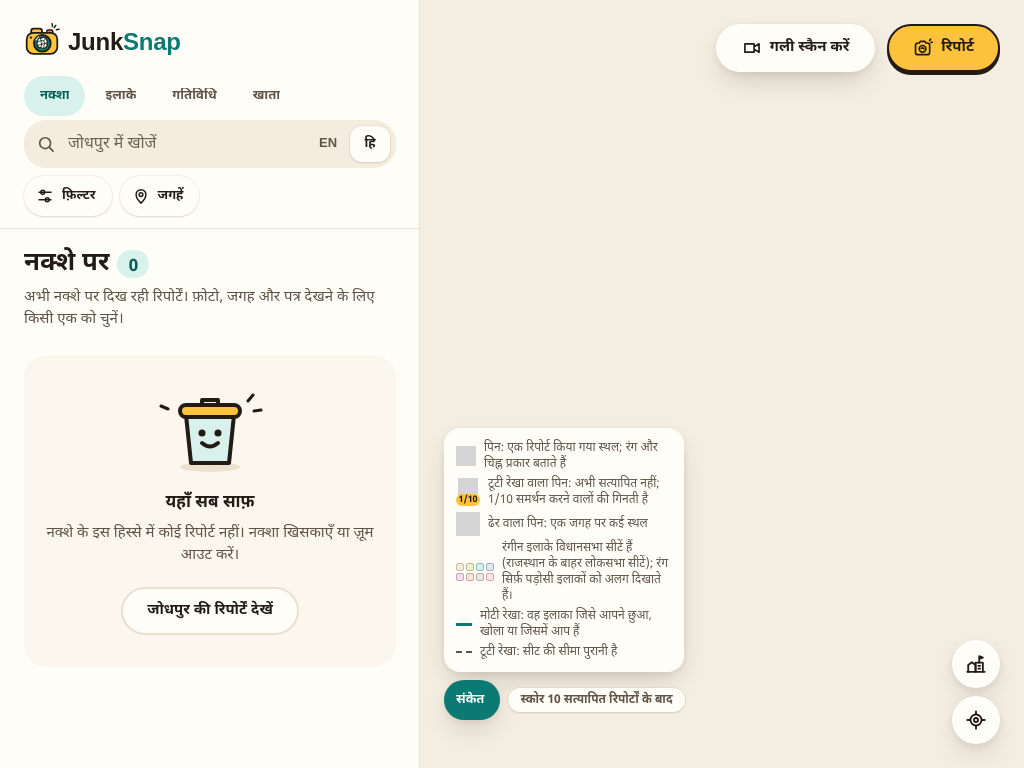
Test case: search › finds the seat from its Hindi spelling, and says plainly when nothing matches
This screenshot has width=1024, height=768.
Type "लूणी" into the search field named "जोधपुर में खोजें: वार्ड, क्षेत्र और जगहें" at (181, 144), box [68,120,294,168]
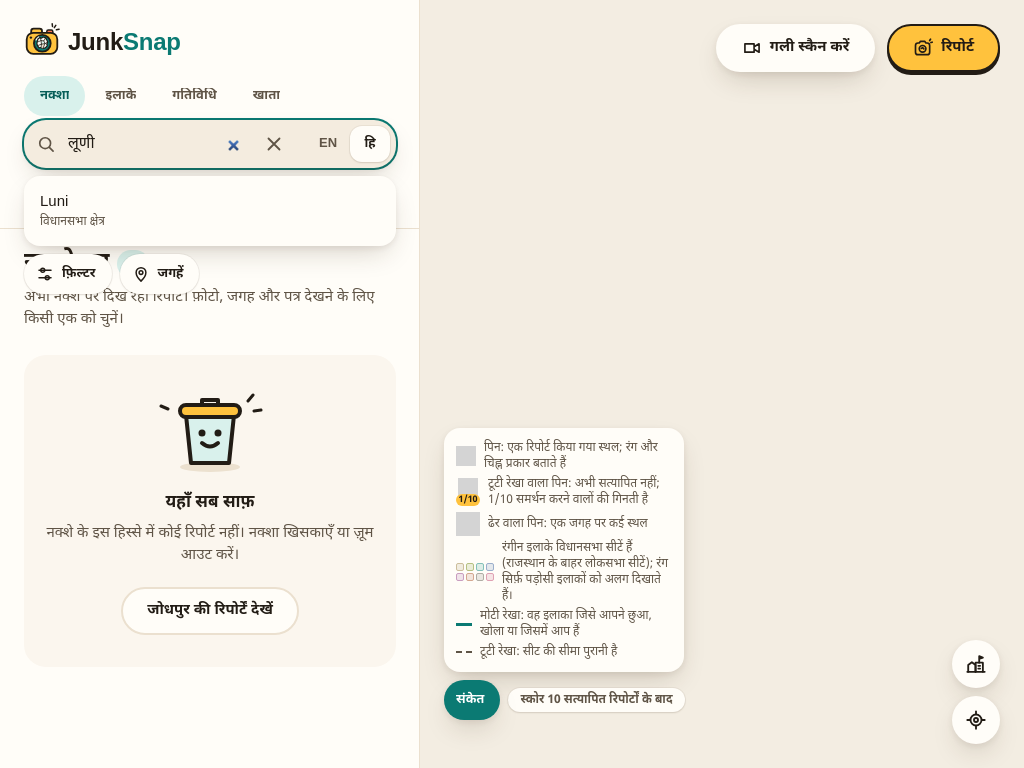
// The app holds no Hindi name for the seat, so the result shows the name it has.
Click the button "Luni विधानसभा क्षेत्र" at (72, 222), box [24,184,396,238]
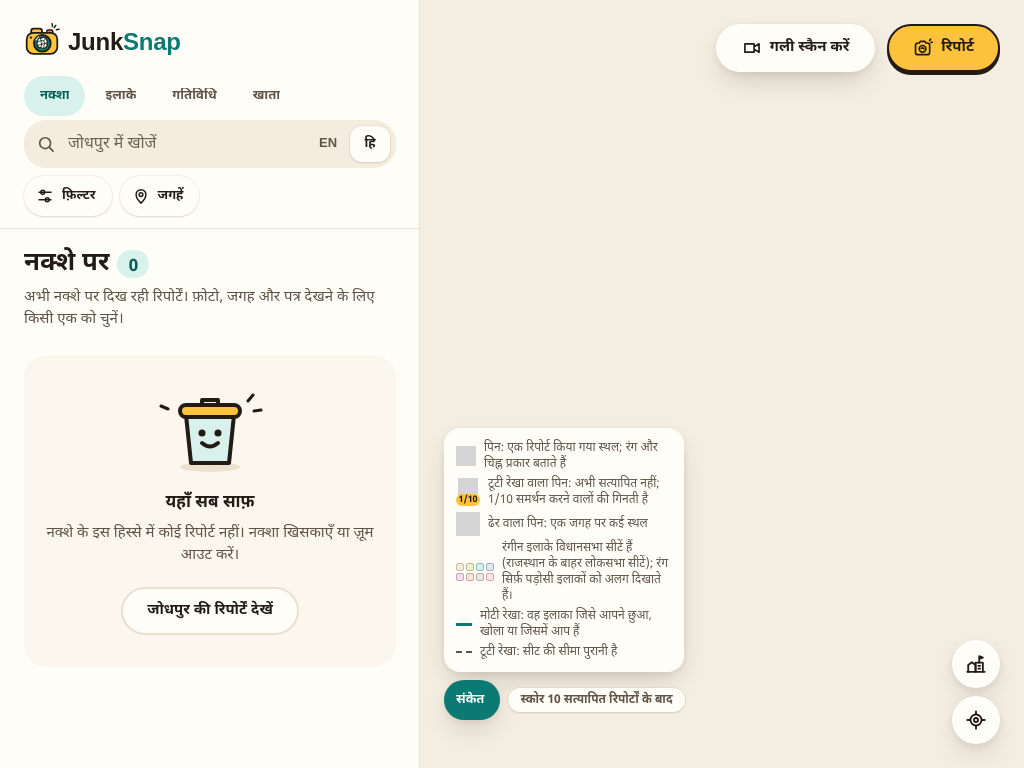
Type "पावटा" into the search field named "जोधपुर में खोजें: वार्ड, क्षेत्र और जगहें" at (181, 144), box [68,120,294,168]
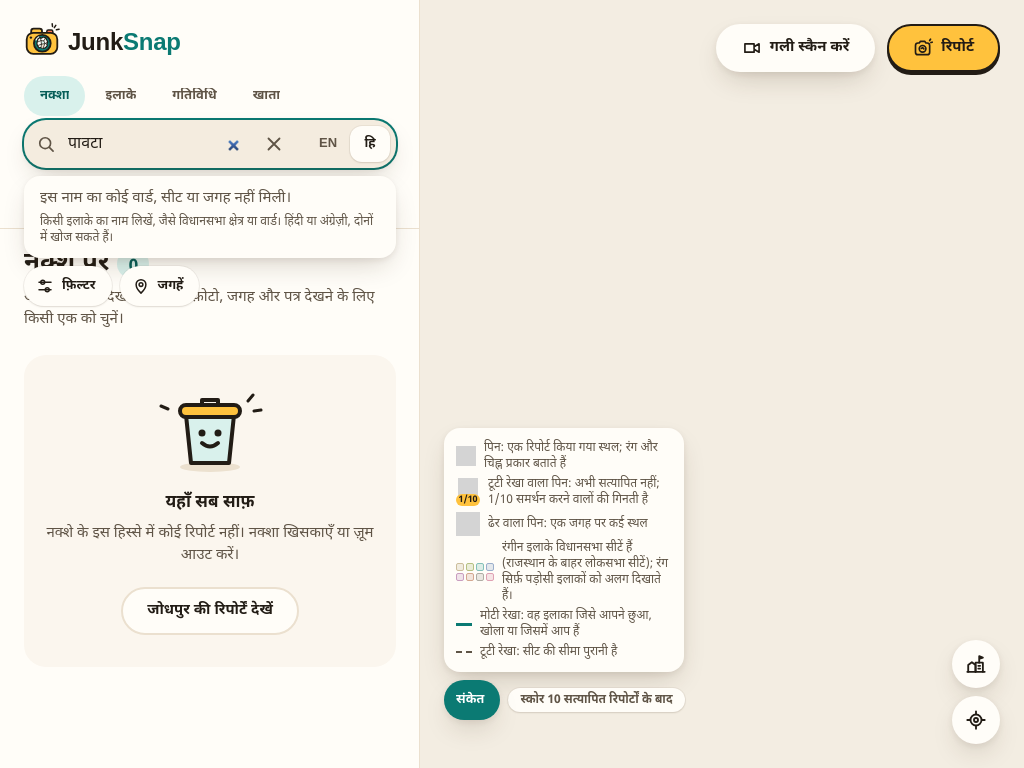
Now the text "किसी इलाके का नाम लिखें" is shown, box [40,214,373,246]
